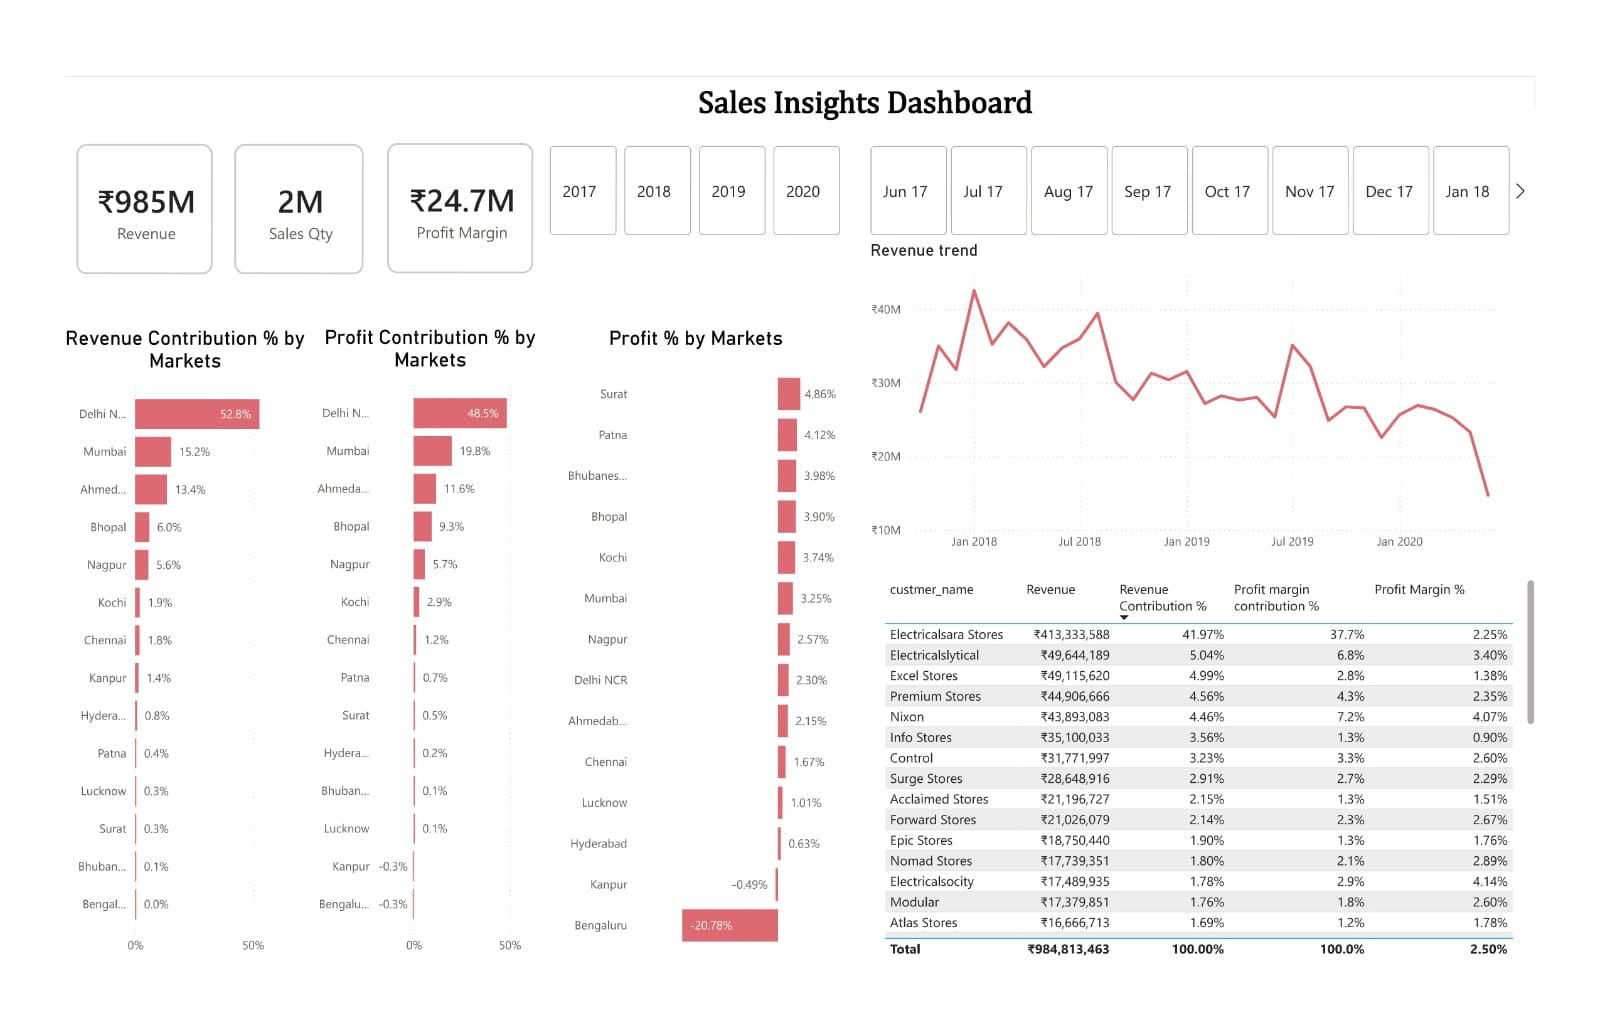

The dashboard page shown, as its layout file describes it:
{"tool":"powerbi","page":{"name":"Duplicate of Page 1","canvas":[1500,900],"ordinal":1},"visuals":[{"type":"cardVisual","fields":{"Data":["BaseMeasures.Revenue"]},"box":[0,57.1,162.9,157.1],"z":0},{"type":"cardVisual","fields":{"Data":["BaseMeasures.Sales Quantity"]},"box":[161.4,57.1,155.7,157.1],"z":1000},{"type":"barChart","title":"Profit  % by Markets","fields":{"Y":["BaseMeasures.Profit Margin %"],"Category":["sales markets.markets_name"]},"box":[501,255,286,645],"z":2000},{"type":"barChart","title":"Profit Contribution % by Markets","fields":{"Y":["BaseMeasures.Prfoit margin contribution %"],"Category":["sales markets.markets_name"]},"box":[246,254,254,646],"z":3000},{"type":"advancedSlicerVisual","title":"Year","fields":{"Values":["sales date.year"]},"box":[490,65.7,307.1,101.4],"z":4000},{"type":"advancedSlicerVisual","title":"cy_date","fields":{"Values":["sales date.cy_date"]},"box":[797.1,65.7,702.9,101.4],"z":5000},{"type":"tableEx","title":"Top 5 Customers","fields":{"Values":["sales customers.custmer_name","BaseMeasures.Revenue","BaseMeasures.Revenue Contribution %","BaseMeasures.Profit margin contribution %","BaseMeasures.Profit Margin %"]},"box":[835.7,512.9,664.3,387.1],"z":6000},{"type":"lineChart","title":"Revenue trend","fields":{"Y":["BaseMeasures.Revenue"],"Category":["sales date.cy_date.Variation.Date Hierarchy.Year","sales date.cy_date.Variation.Date Hierarchy.Quarter","sales date.cy_date.Variation.Date Hierarchy.Month","sales date.cy_date.Variation.Date Hierarchy.Day"]},"box":[817.1,167.1,664.3,325.7],"z":7000},{"type":"cardVisual","fields":{"Data":["BaseMeasures.Profit Margin"]},"box":[317.1,55.7,172.9,157.1],"z":8000},{"type":"barChart","title":"Revenue Contribution % by Markets","fields":{"Y":["BaseMeasures.Revenue Contribution %"],"Category":["sales markets.markets_name"]},"box":[0,255,246,645],"z":9000},{"type":"textbox","box":[631.4,4.3,371.4,52.9],"z":10000}]}

Visuals, with their boxes on the page's 1500x900 design canvas (x1, y1, x2, y2). These are canvas units, not pixel positions in the 1600x1035 screenshot, which may show the page scaled, cropped or inside an application window:
cardVisual - BaseMeasures.Revenue: select_region(0, 57, 163, 214)
cardVisual - BaseMeasures.Sales Quantity: select_region(161, 57, 317, 214)
"Profit  % by Markets" barChart: select_region(501, 255, 787, 900)
"Profit Contribution % by Markets" barChart: select_region(246, 254, 500, 900)
"Year" advancedSlicerVisual: select_region(490, 66, 797, 167)
"cy_date" advancedSlicerVisual: select_region(797, 66, 1500, 167)
"Top 5 Customers" tableEx: select_region(836, 513, 1500, 900)
"Revenue trend" lineChart: select_region(817, 167, 1481, 493)
cardVisual - BaseMeasures.Profit Margin: select_region(317, 56, 490, 213)
"Revenue Contribution % by Markets" barChart: select_region(0, 255, 246, 900)
textbox: select_region(631, 4, 1003, 57)
